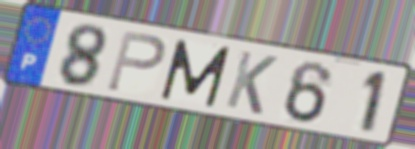1: (357, 69, 391, 136)
6: (283, 60, 336, 125)
8: (58, 22, 110, 89)
K: (222, 48, 280, 118)
M: (158, 37, 234, 109)
P: (104, 28, 168, 95)
